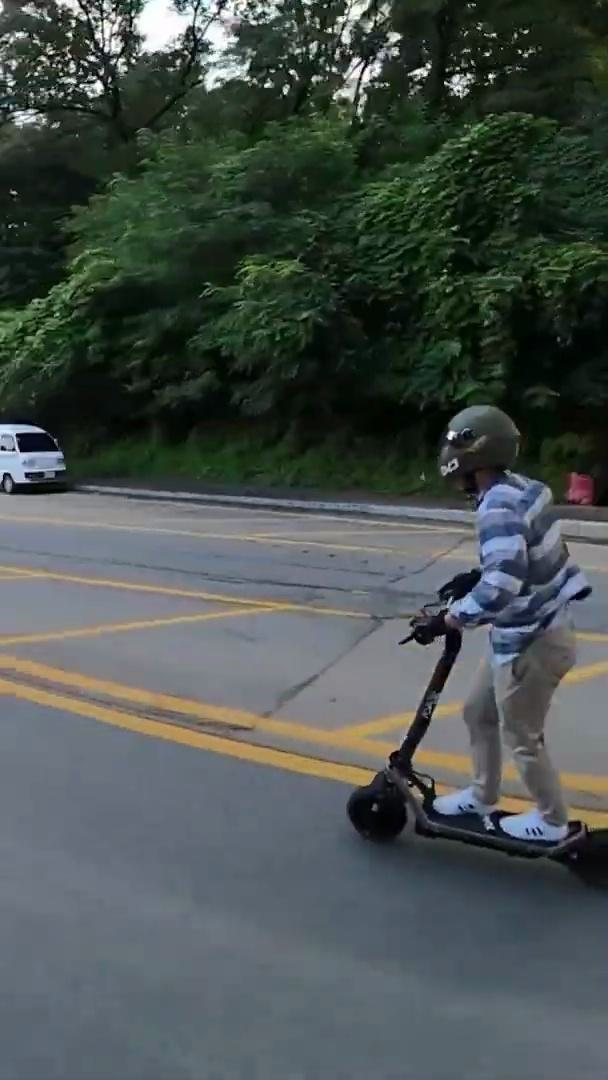helmet: (344, 405, 607, 897)
